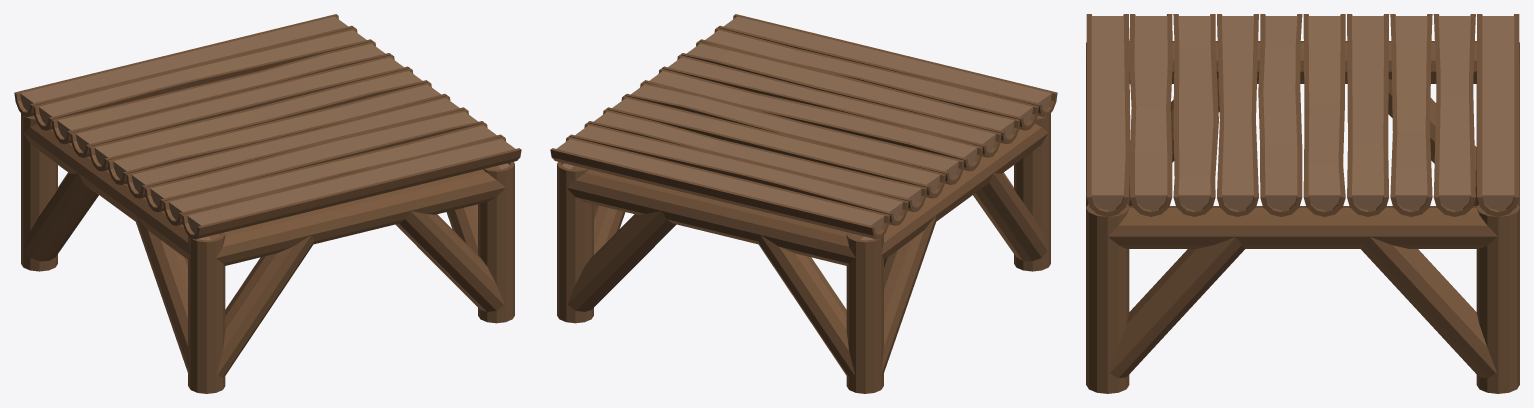
Rendered from mesh_wood_platform.fbx.
The picture shows the model from 3 angles, left to right: view 1: azimuth 30°, elevation 25°; view 2: azimuth 150°, elevation 25°; view 3: azimuth 270°, elevation 25°; orthographic projection. The views are drawn at different scales.
Parts seen in each view (by area): view 1: mesh_wood_platform; view 2: mesh_wood_platform; view 3: mesh_wood_platform.
Part boxes in pixels (x1=…): mesh_wood_platform: x1=14, y1=14, x2=521, y2=393; mesh_wood_platform: x1=550, y1=14, x2=1057, y2=393; mesh_wood_platform: x1=1086, y1=14, x2=1519, y2=393.
Bounding box in the file's own units: 2 × 1.01 × 2.
